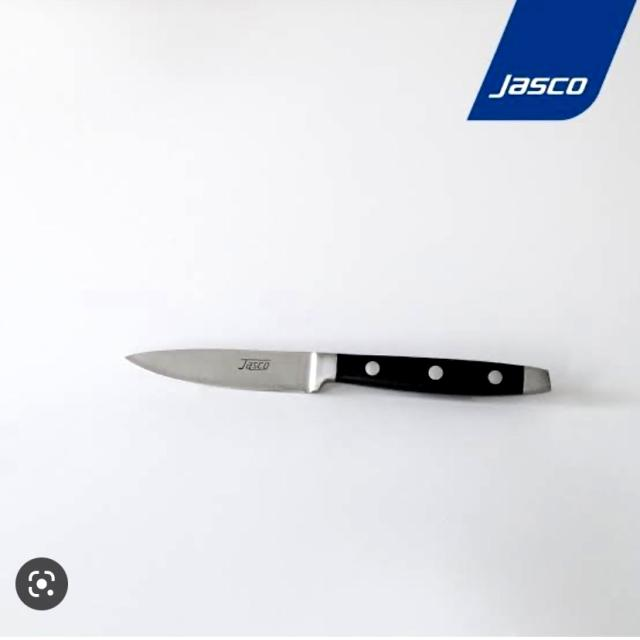knife: (121, 336, 558, 409)
